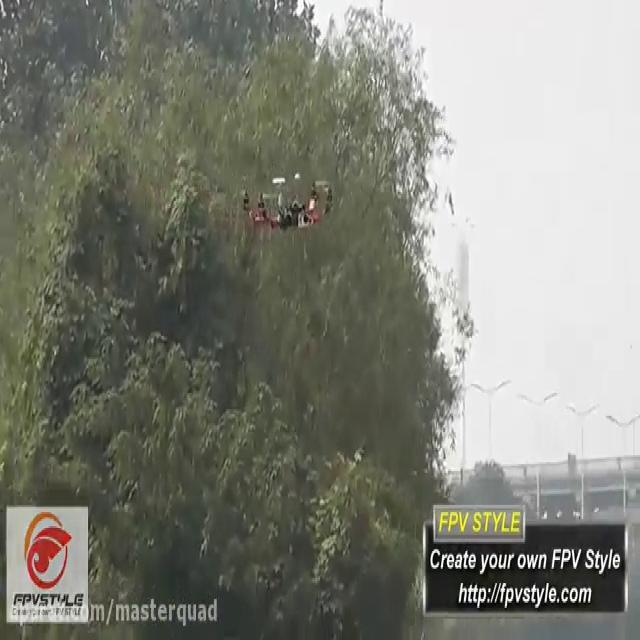drone: (234, 164, 336, 240)
